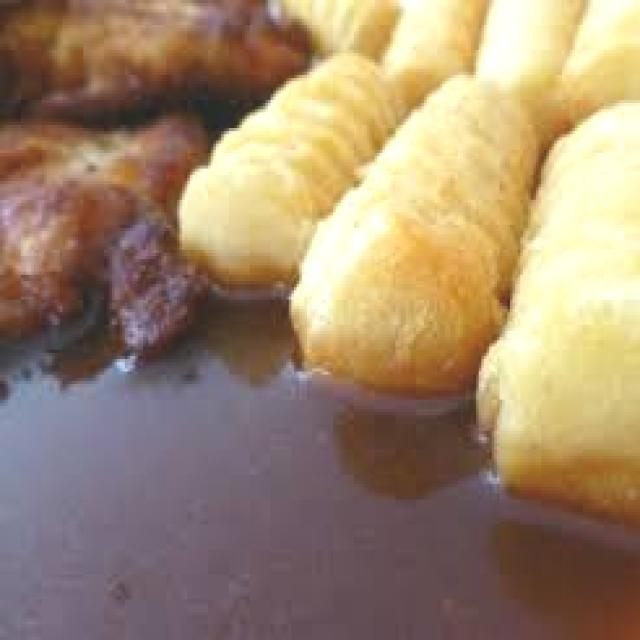organic: (200, 142, 632, 418), (5, 118, 191, 342), (314, 8, 640, 106), (6, 7, 303, 96)
